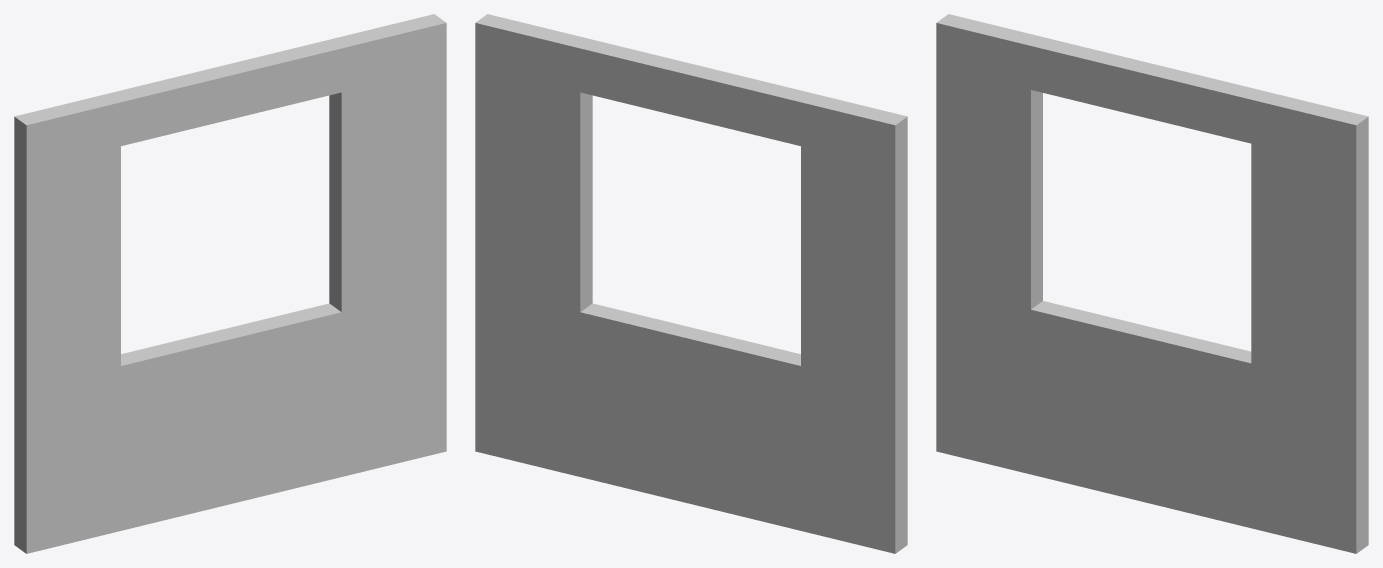
File: ConstructionMaterials-33.obj
3 views of the same model, side by side, from view 1: azimuth 30°, elevation 25°; view 2: azimuth 150°, elevation 25°; view 3: azimuth 330°, elevation 25° (orthographic).
Size of the model in its own units: 4 by 3.9 by 0.2.
1 material, 1 textured.
